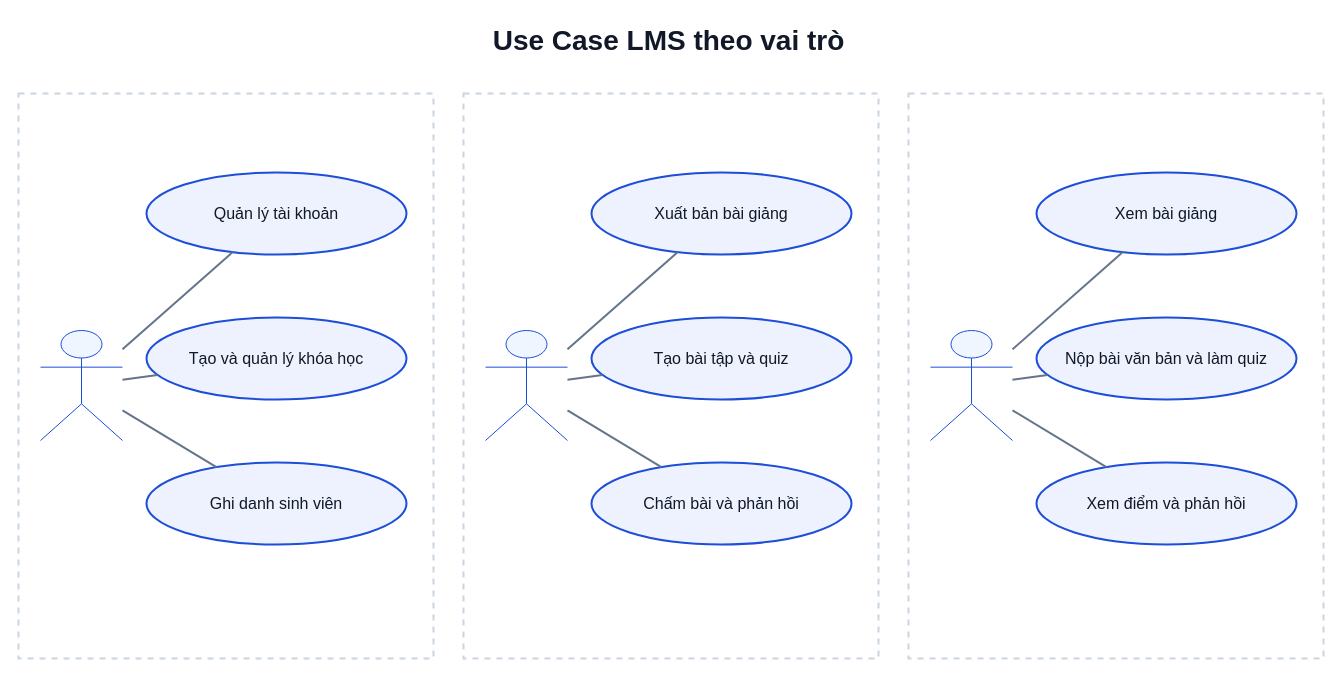
Some shapes in this 1341 by 676 pixel diagram are drawn without their labels. The shapes that lost their labels are listed below. From the top down, each one's box as (x1, y1, x2, y2) in pixels, then its label:
(40, 330, 122, 440): ADMIN
(484, 330, 568, 440): GIẢNG VIÊN
(930, 330, 1012, 440): SINH VIÊN
